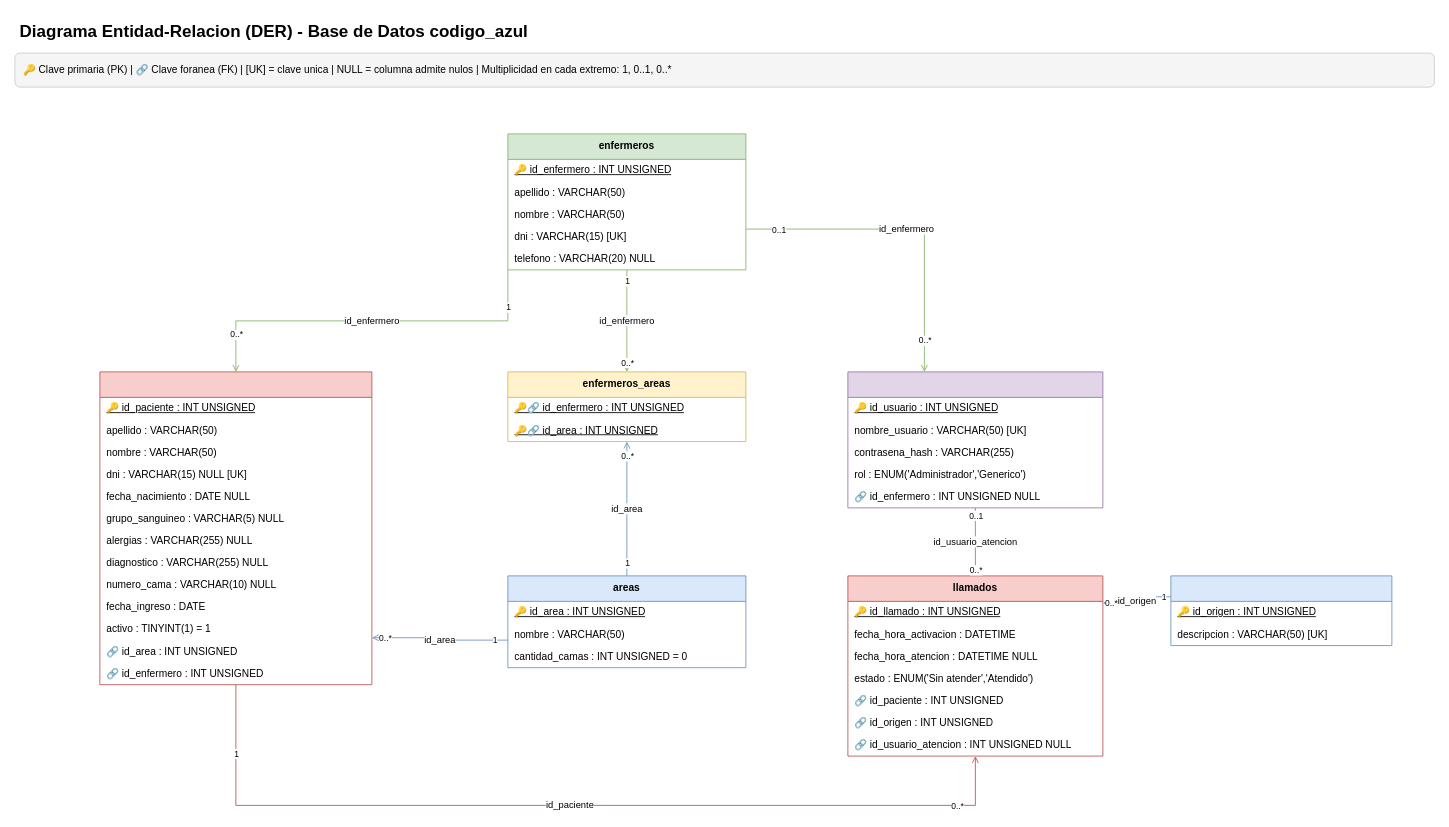
Some shapes in this 1449 by 827 pixel diagram are drawn without their labels. Each missing label, with the box of its shape:
origenes: (1170, 575, 1392, 646)
pacientes: (99, 371, 372, 685)
usuarios: (847, 371, 1103, 508)
